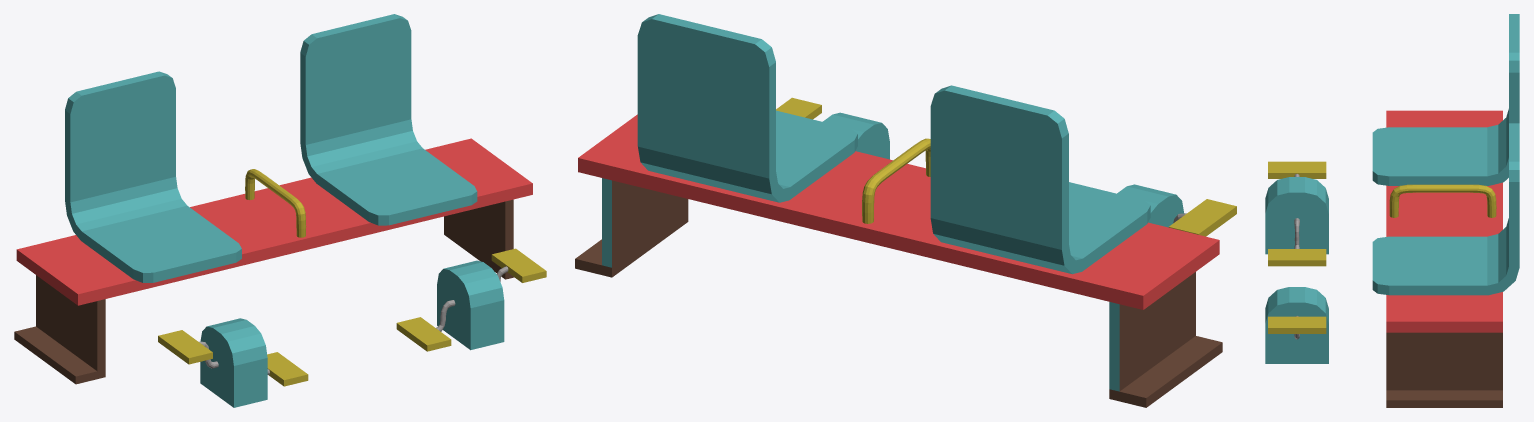
Rendered from D1_GYM5.fbx.
3 renders of one model, left to right at view 1: azimuth 30°, elevation 25°; view 2: azimuth 150°, elevation 25°; view 3: azimuth 270°, elevation 25°, orthographic. The views are drawn at different scales.
Parts seen in each view (by area): view 1: D1_GIMNASIO5; view 2: D1_GIMNASIO5; view 3: D1_GIMNASIO5.
Part boxes in pixels (x1,y1,x2,y2): D1_GIMNASIO5: (14, 14, 546, 407); D1_GIMNASIO5: (575, 14, 1236, 407); D1_GIMNASIO5: (1265, 14, 1519, 407).
Bounding box in the file's own units: 275 × 128 × 139.
